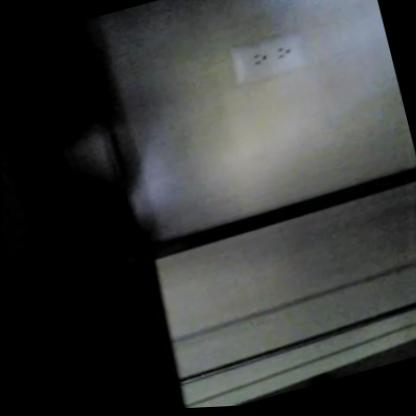OUTLET: (229, 28, 310, 84)
